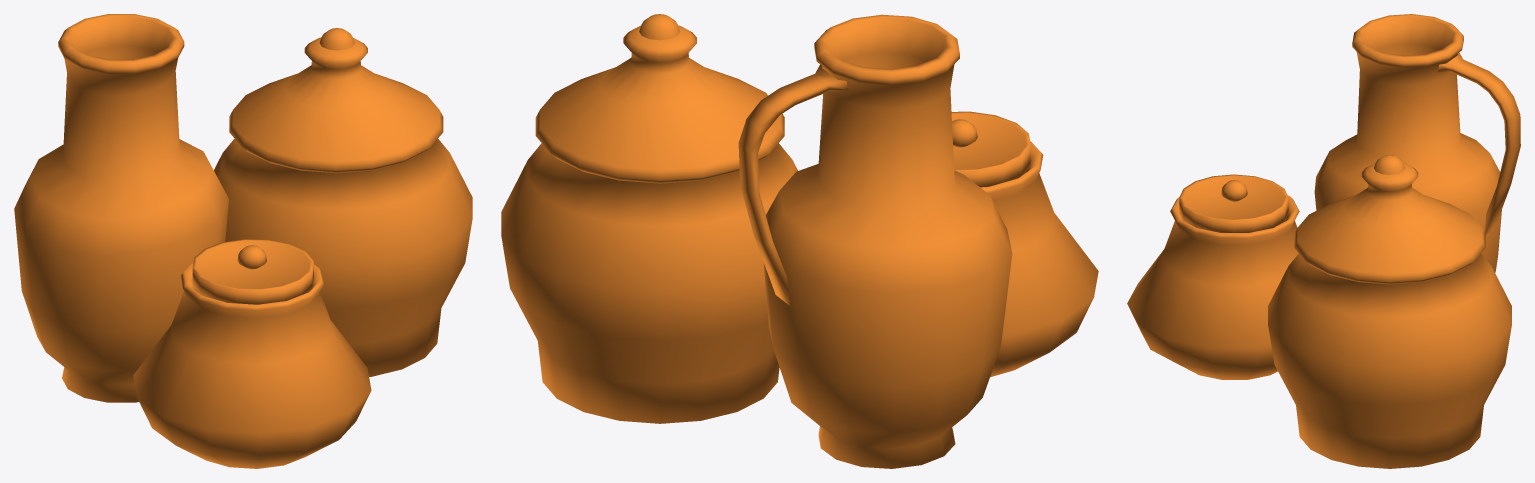
The model's file is SM_pottery_preset_03.fbx.
3 views of the same model, side by side, from view 1: azimuth 30°, elevation 25°; view 2: azimuth 150°, elevation 25°; view 3: azimuth 270°, elevation 25° (orthographic). The views are drawn at different scales.
Parts seen in each view (by area): view 1: Cylinder136; view 2: Cylinder136; view 3: Cylinder136.
Part boxes in pixels (box(x1,y1,x2,y2)): Cylinder136: box(14, 14, 472, 468); Cylinder136: box(501, 14, 1098, 468); Cylinder136: box(1127, 14, 1520, 468).
Size of the model in its own units: 38.24 by 29.89 by 34.9.
